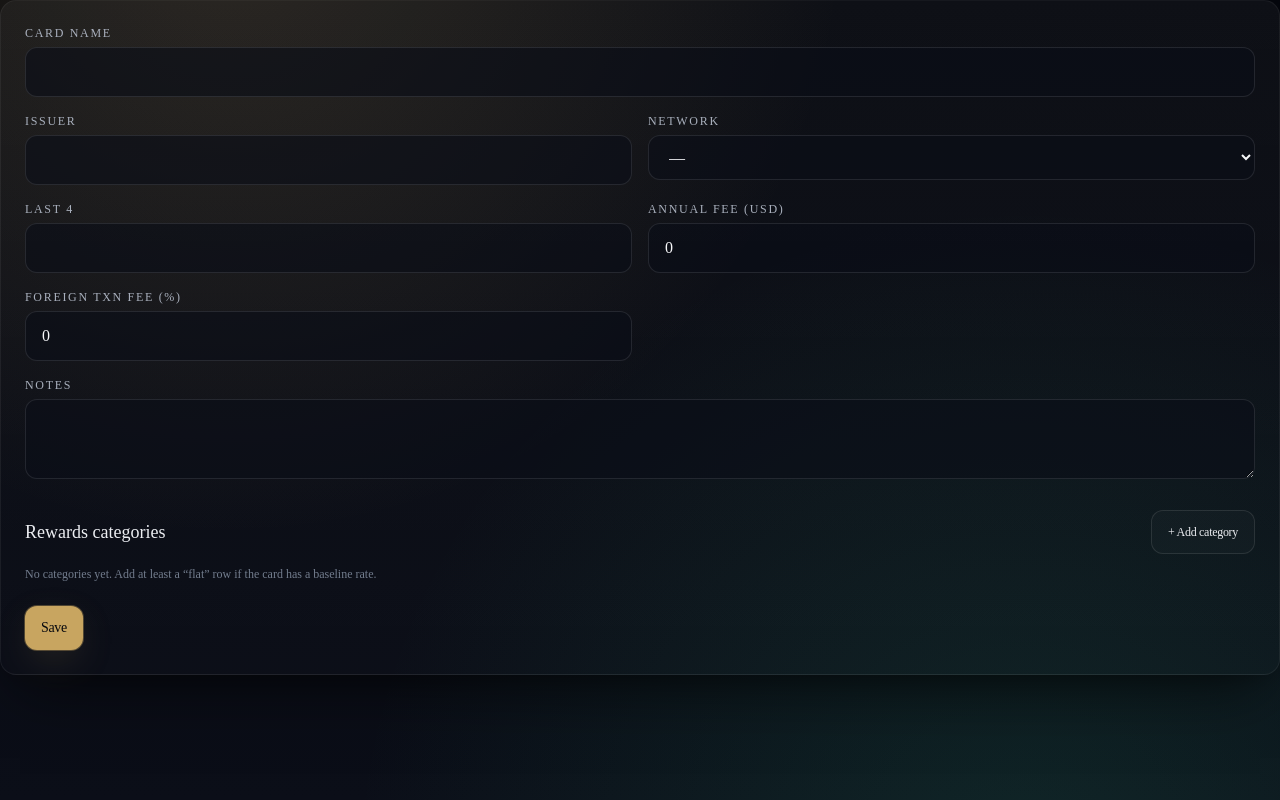
<CardForm /> › shows validation errors for a bad last-4
In the field labelled "Card name": (640, 72) 25,47 -> 1255,97, type "Bad"
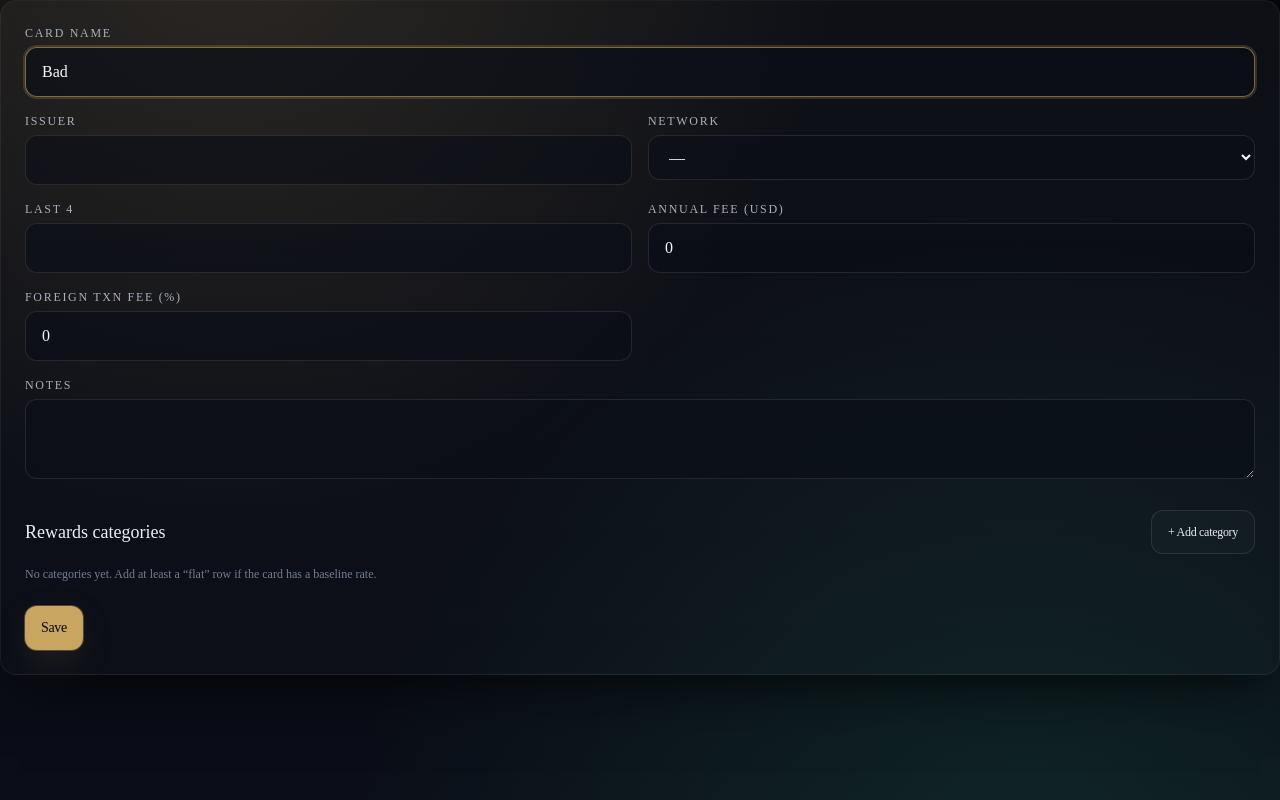
In the field labelled "Last 4": (328, 248) 25,223 -> 632,273, type "12"
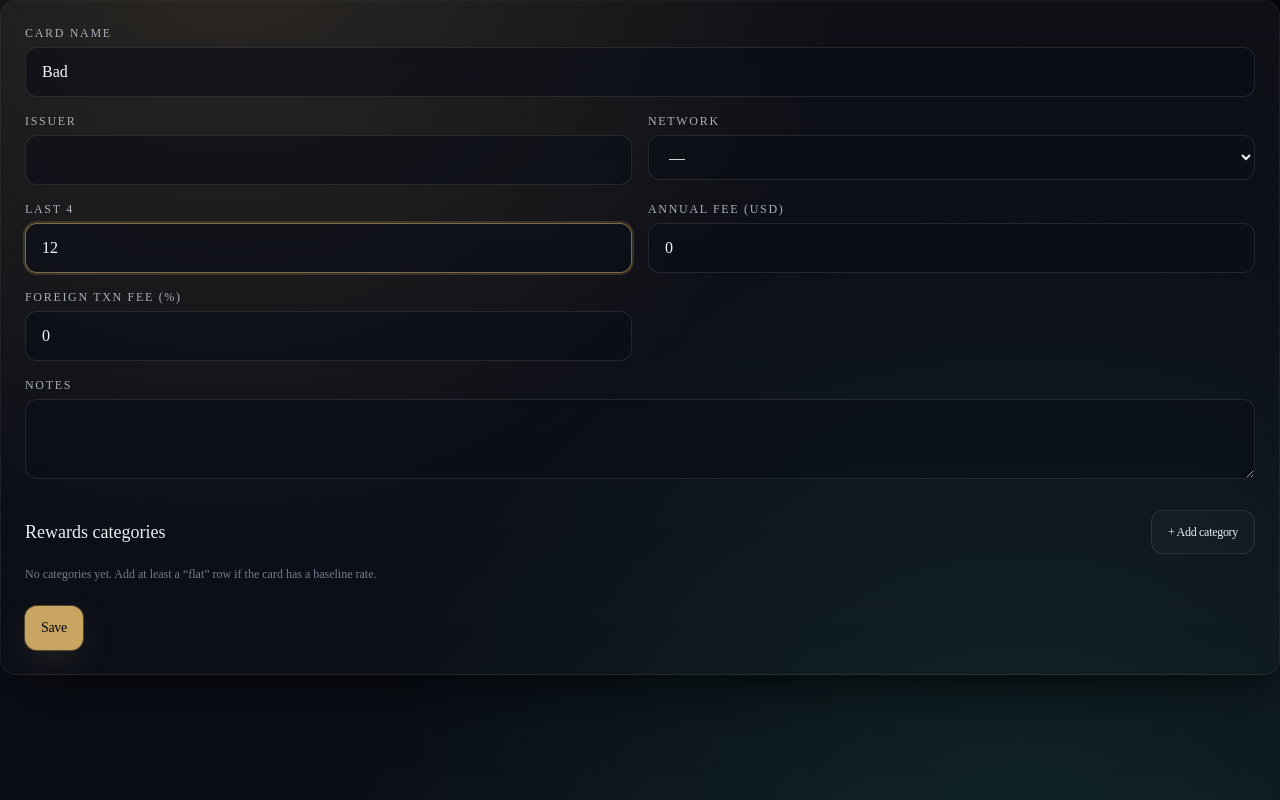
Click the button "Save": (54, 628) 25,606 -> 83,650
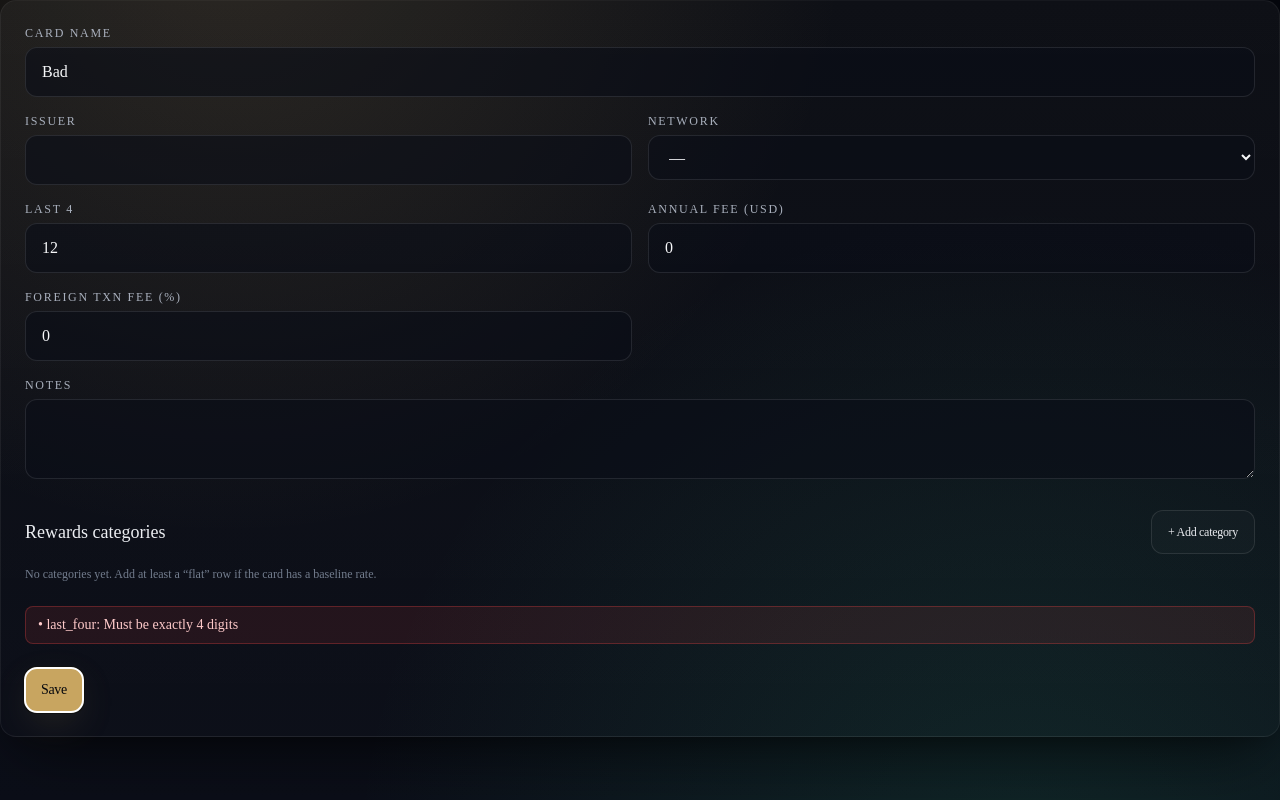
Expected: the list item "• last_four: Must be exactly 4 digits" is shown, 38,617 -> 238,632
